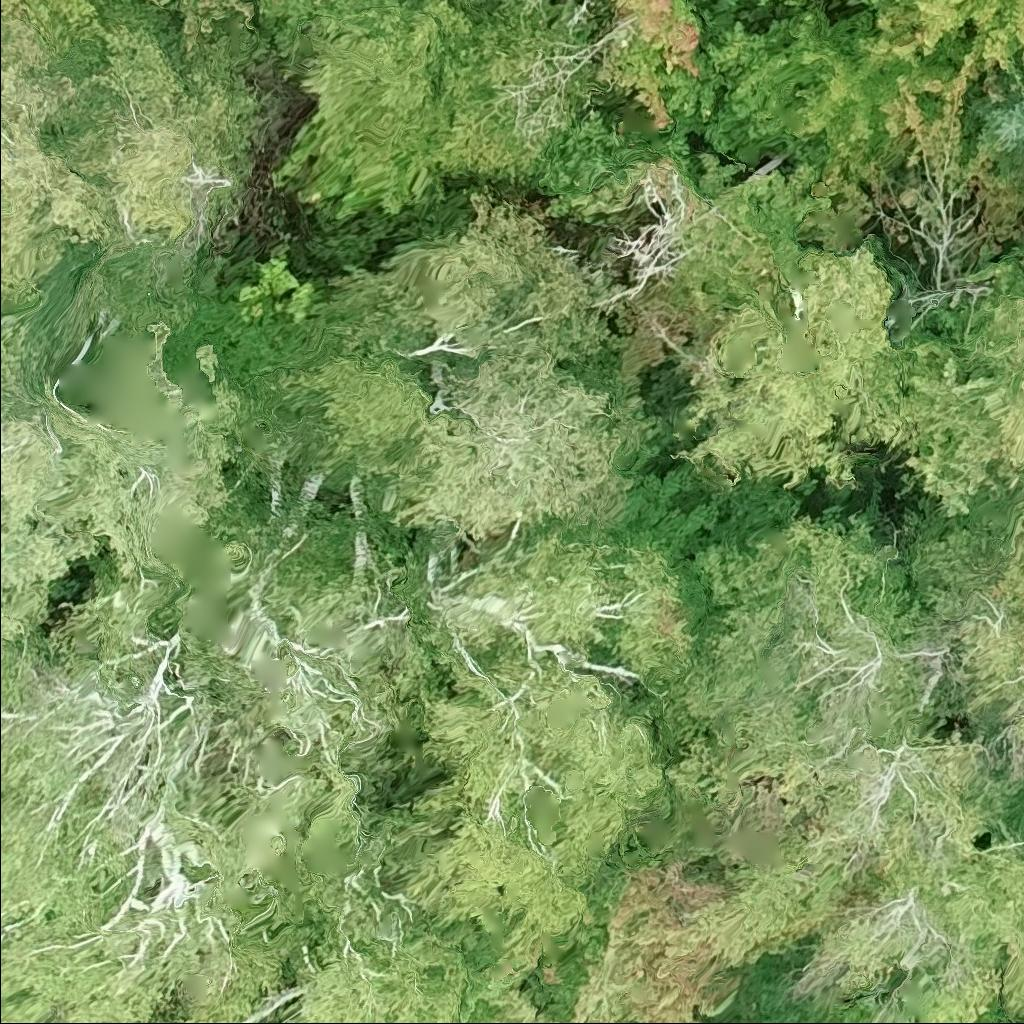crown: (909, 258, 1023, 587), (887, 0, 1023, 99), (959, 67, 1023, 167), (1013, 60, 1023, 82)
